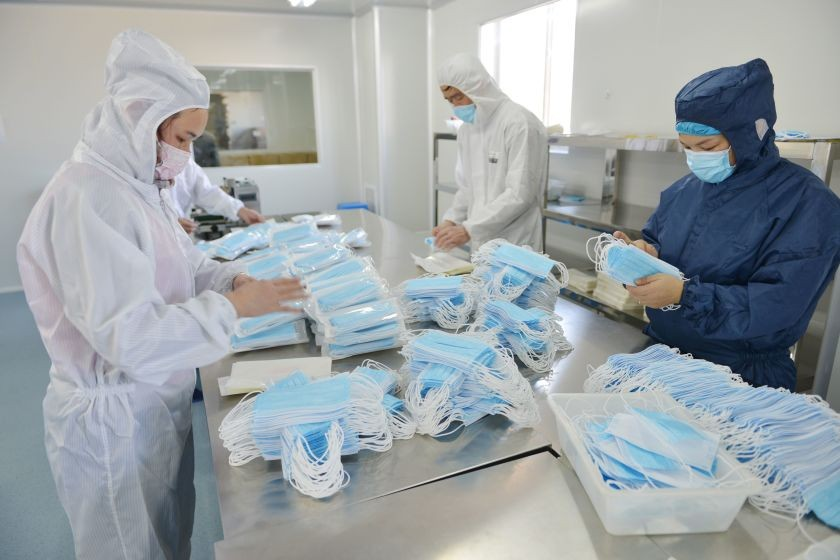Coverall: (15, 22, 240, 560), (640, 55, 840, 395), (431, 50, 554, 269)
with_mask: (154, 121, 200, 185), (679, 136, 734, 186), (440, 85, 479, 129)
